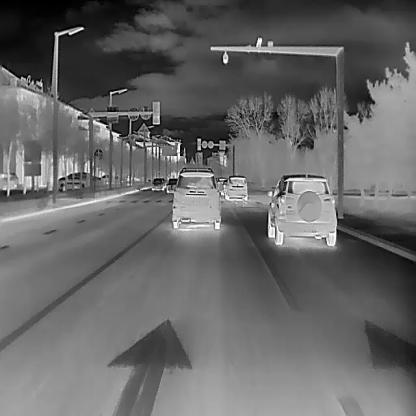car: (266, 172, 336, 246), (171, 165, 220, 228), (57, 171, 100, 188), (224, 174, 247, 200), (0, 172, 18, 190), (165, 176, 179, 192), (216, 176, 227, 192), (151, 177, 164, 189)
